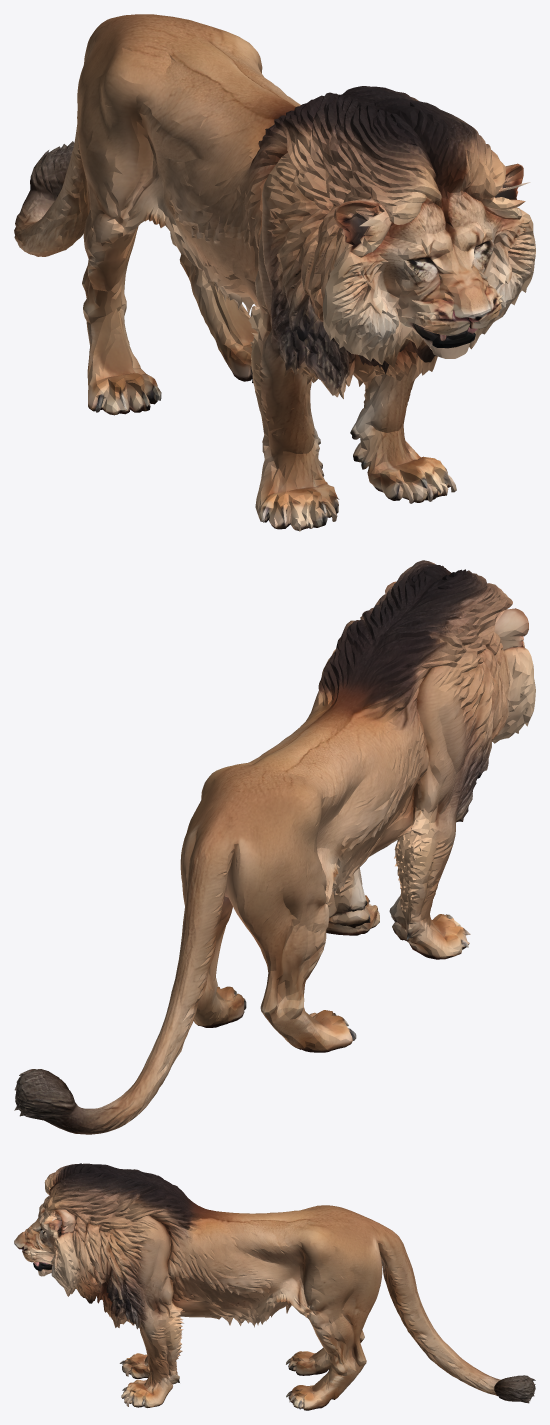
File: mountain_lion_rodin_source.glb
3 renders of one model, top to bottom at view 1: azimuth 30°, elevation 25°; view 2: azimuth 150°, elevation 25°; view 3: azimuth 270°, elevation 25°, orthographic. The views are drawn at different scales.
Parts seen in each view (by area): view 1: model; view 2: model; view 3: model.
Part boxes in pixels (x1=…): model: x1=14, y1=14, x2=535, y2=531; model: x1=14, y1=560, x2=535, y2=1134; model: x1=14, y1=1163, x2=535, y2=1410.
Bounding box in the file's own units: 0.4901 × 0.8873 × 1.9.
Materials: 1 (1 with a texture image).
